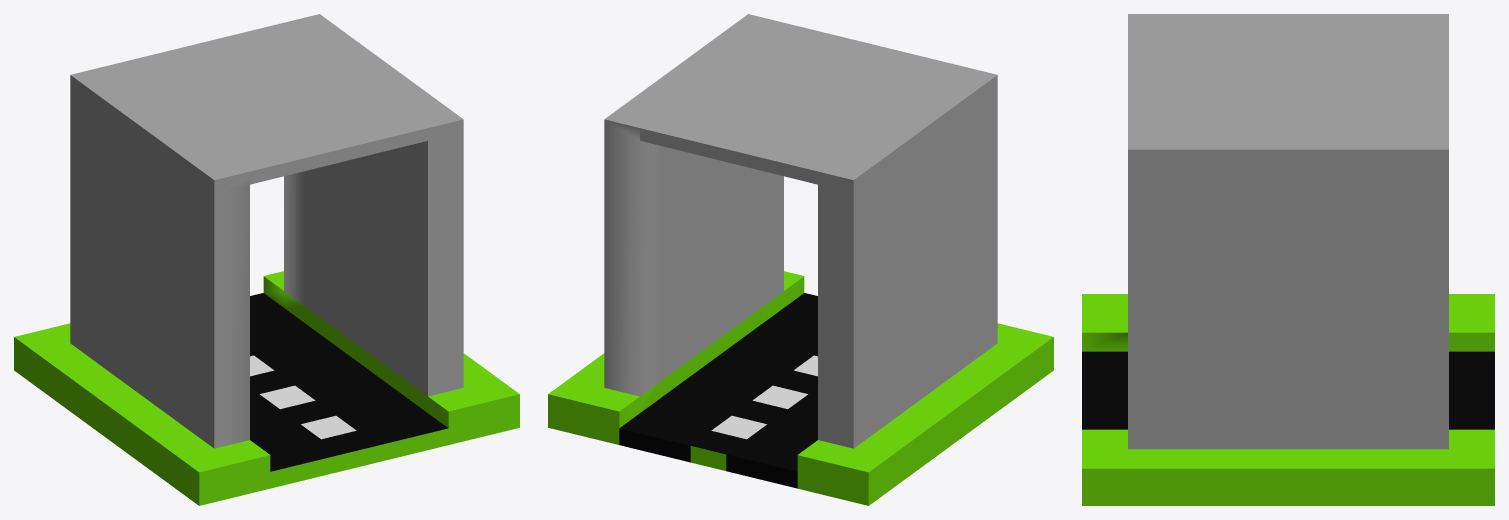
The model's file is RoadStrightTunel.fbx.
3 renders of one model, left to right at view 1: azimuth 30°, elevation 25°; view 2: azimuth 150°, elevation 25°; view 3: azimuth 270°, elevation 25°, orthographic. The views are drawn at different scales.
Parts seen in each view (by area): view 1: Stright; view 2: Stright; view 3: Stright.
Part boxes in pixels (bbox=[...]): Stright: bbox=[14, 14, 519, 505]; Stright: bbox=[548, 14, 1053, 505]; Stright: bbox=[1082, 14, 1494, 505].
Bounding box in the file's own units: 10 × 9 × 10.
